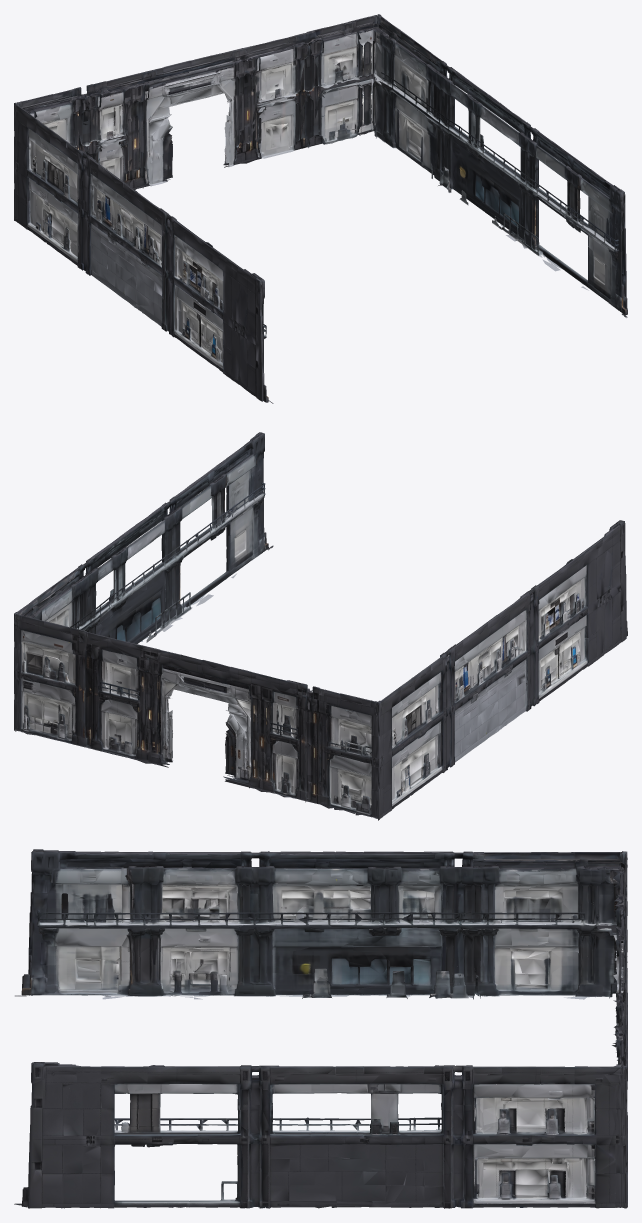
The model's file is clinical_perimeter_tripo.glb.
3 views of the same model, one above another, from view 1: azimuth 30°, elevation 25°; view 2: azimuth 150°, elevation 25°; view 3: azimuth 270°, elevation 25° (orthographic). The views are drawn at different scales.
Parts seen in each view (by area): view 1: ClinicalPerimeterShell; view 2: ClinicalPerimeterShell; view 3: ClinicalPerimeterShell.
Part boxes in pixels (x1,y1,x2,y2): ClinicalPerimeterShell: (14,14,627,403); ClinicalPerimeterShell: (14,432,627,820); ClinicalPerimeterShell: (14,849,627,1208).
Bounding box in the file's own units: 31.33 × 9.83 × 37.71.
Materials: 135 (135 with a texture image).
